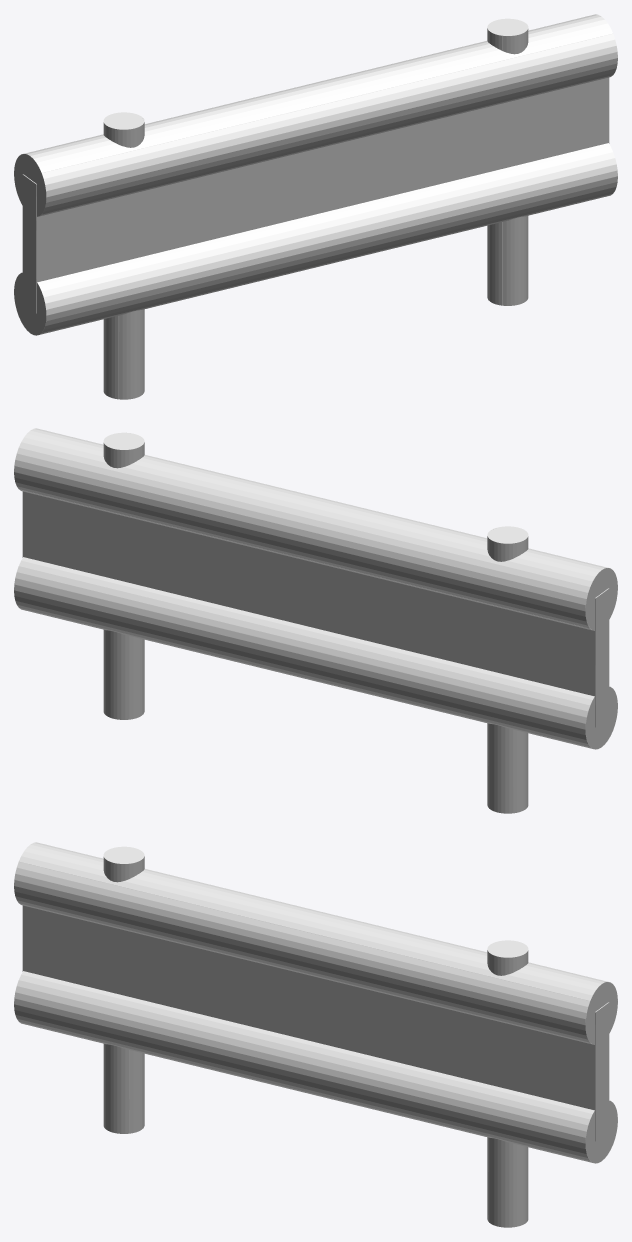
File: gard.fbx
The picture shows the model from 3 angles, top to bottom: view 1: azimuth 30°, elevation 25°; view 2: azimuth 150°, elevation 25°; view 3: azimuth 330°, elevation 25°; orthographic projection.
Visible parts, largest first — view 1: Cylinder; view 2: Cylinder; view 3: Cylinder.
Part boxes in pixels (<box>): Cylinder: <box>14,14,617,399</box>; Cylinder: <box>14,428,617,813</box>; Cylinder: <box>14,842,617,1227</box>.
Size of the model in its own units: 391 by 176 by 38.35.
